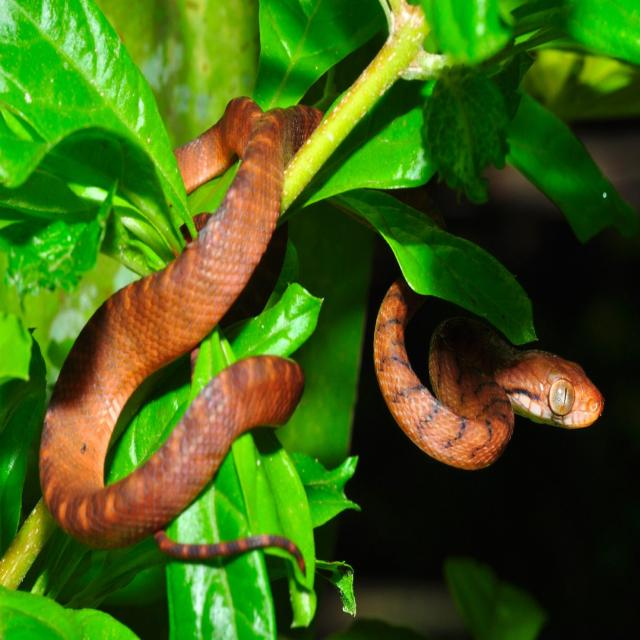Snake: (41, 92, 604, 574)
